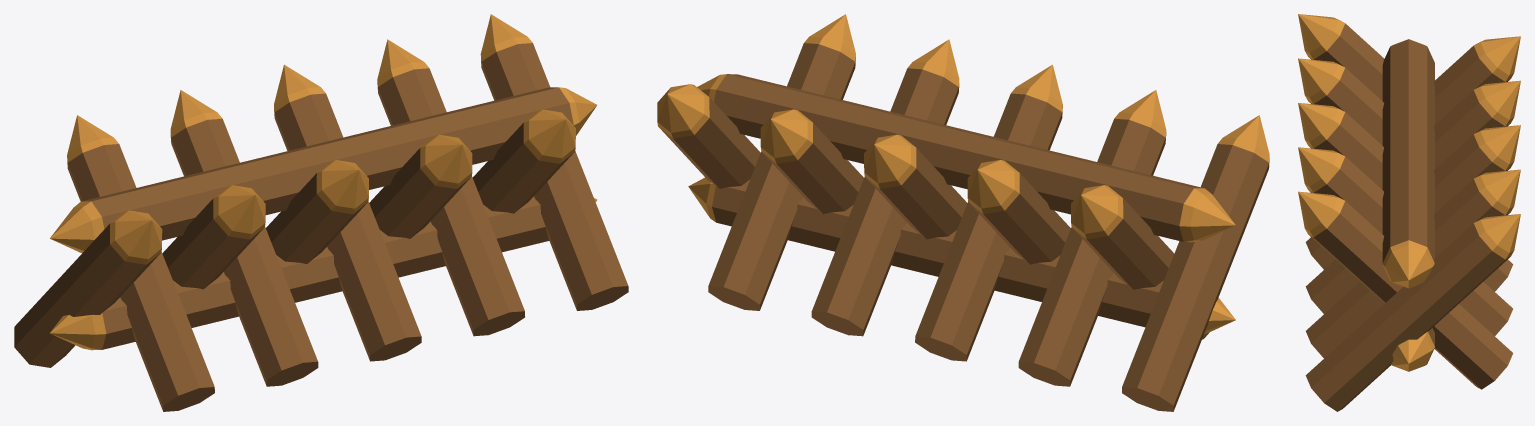
File: Barricade.fbx
3 views of the same model, side by side, from view 1: azimuth 30°, elevation 25°; view 2: azimuth 150°, elevation 25°; view 3: azimuth 270°, elevation 25° (orthographic). The views are drawn at different scales.
Parts seen in each view (by area): view 1: Cylinder.011, Cylinder, Cylinder.003, Cylinder.004, Cylinder.002, Cylinder.001, Cylinder.010, Cylinder.005, Cylinder.008, Cylinder.006, Cylinder.009, Cylinder.007; view 2: Cylinder.011, Cylinder.005, Cylinder.008, Cylinder.006, Cylinder.007, Cylinder.009, Cylinder.010, Cylinder.004, Cylinder.001, Cylinder.003, Cylinder, Cylinder.002; view 3: Cylinder.011, Cylinder, Cylinder.009, Cylinder.001, Cylinder.002, Cylinder.008, Cylinder.003, Cylinder.007, Cylinder.004, Cylinder.005, Cylinder.006, Cylinder.010.
Boxes of the visible parts, x1,y1,x2,y2 form: Cylinder.011: (50,87,596,253); Cylinder: (480,14,628,310); Cylinder.003: (170,90,318,386); Cylinder.004: (67,115,214,411); Cylinder.002: (274,64,421,361); Cylinder.001: (377,39,524,336); Cylinder.010: (50,196,597,350); Cylinder.005: (14,210,162,367); Cylinder.008: (369,134,472,238); Cylinder.006: (162,185,265,289); Cylinder.009: (472,109,575,213); Cylinder.007: (266,160,368,263); Cylinder.011: (697,74,1235,242); Cylinder.005: (1122,115,1269,411); Cylinder.008: (811,39,959,336); Cylinder.006: (1018,90,1166,386); Cylinder.007: (915,64,1062,361); Cylinder.009: (708,14,855,310); Cylinder.010: (688,177,1235,334); Cylinder.004: (1071,185,1209,339); Cylinder.001: (760,109,863,214); Cylinder.003: (967,160,1070,264); Cylinder: (657,84,760,188); Cylinder.002: (864,134,967,239); Cylinder.011: (1382,39,1434,288); Cylinder: (1305,214,1520,411); Cylinder.009: (1298,191,1513,389); Cylinder.001: (1306,169,1520,358); Cylinder.002: (1305,125,1520,313); Cylinder.008: (1298,147,1512,335); Cylinder.003: (1305,80,1520,269); Cylinder.007: (1298,103,1513,291); Cylinder.004: (1434,36,1520,124); Cylinder.005: (1298,14,1384,100); Cylinder.006: (1298,58,1383,145); Cylinder.010: (1391,328,1434,371).
Bounding box in the file's own units: 2119 × 820 × 849.
